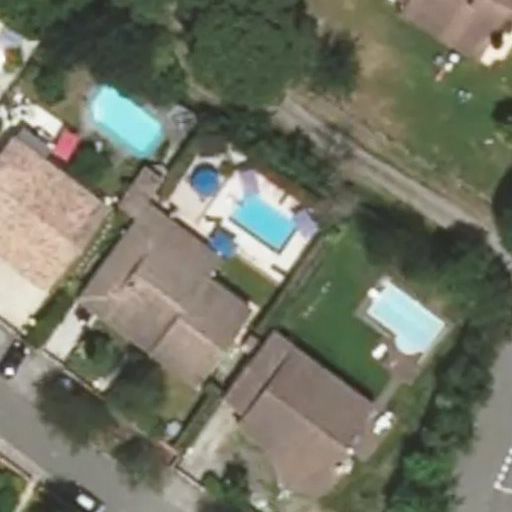pool: (220, 237, 291, 247)
